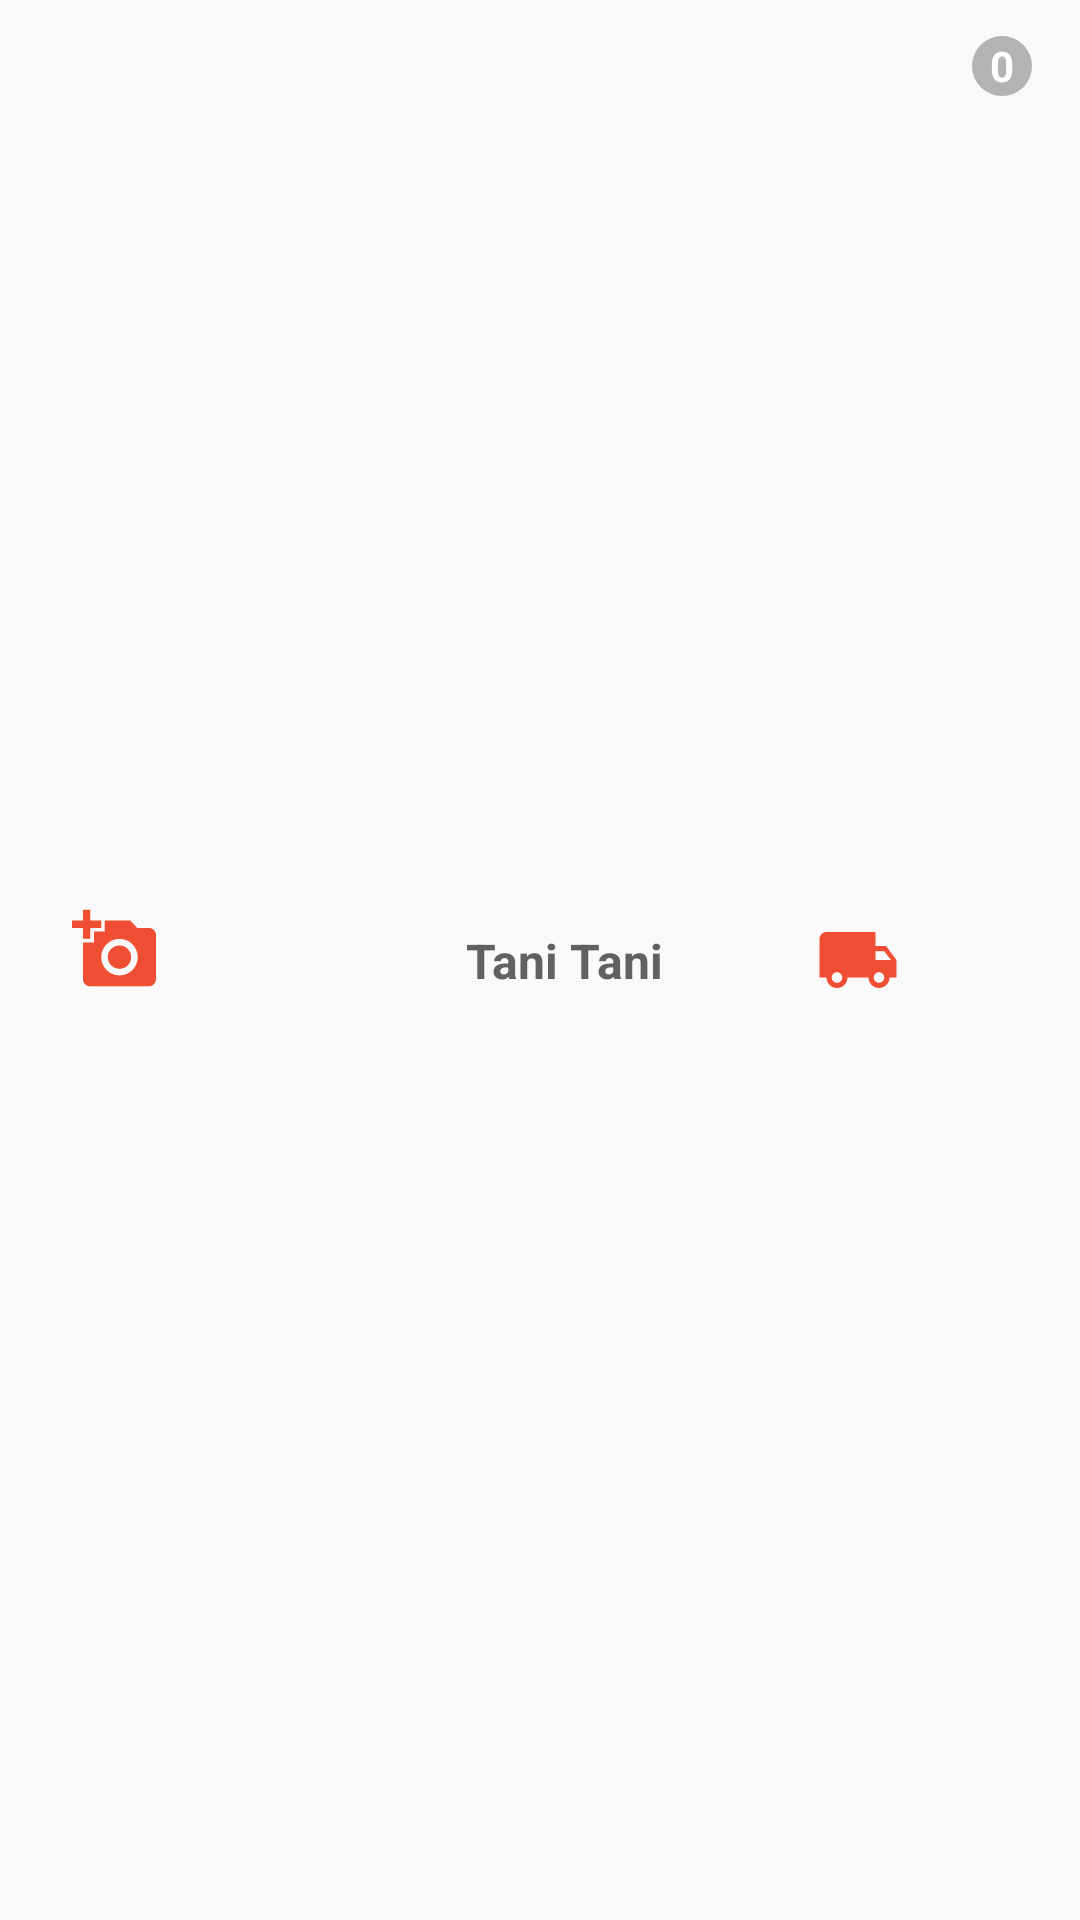

Where to tap for icons on this 1080px x 1920px app screen, as (x=x, y=y):
camera add: (x=114, y=948)
order shipping: (x=858, y=960)
